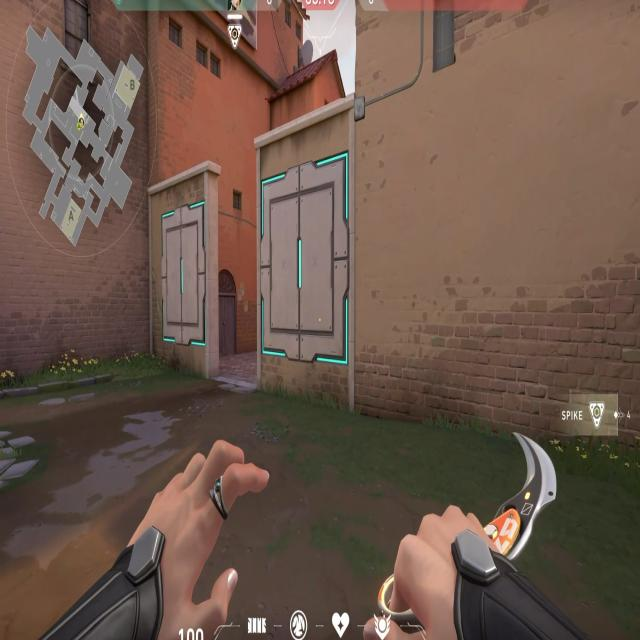Mid_Wall: (258, 140, 351, 378), (158, 204, 210, 360)
